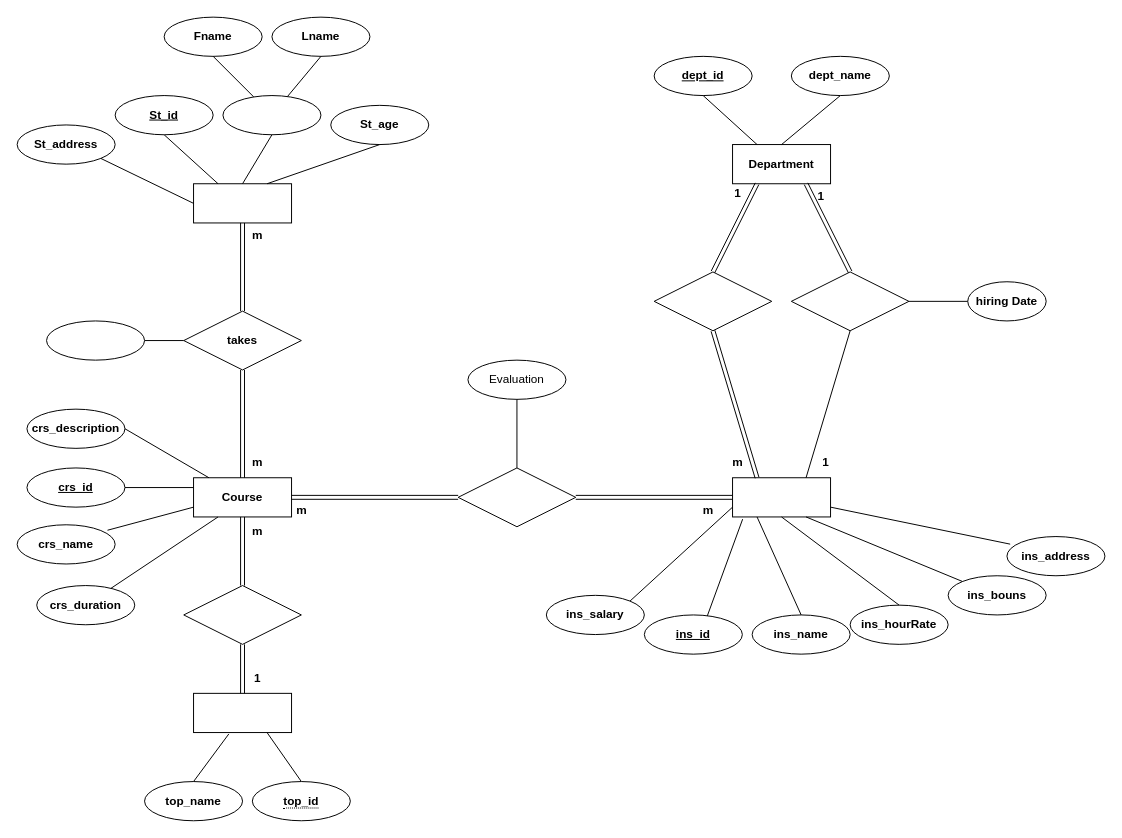
Some shapes in this 1122 by 838 pixel diagram are drawn without their labels. The shapes that lost their labels are listed below. From the top down, each one's centre as x and y in pixels, then its label:
At point (271, 115): "St_name".
At point (242, 203): "Student".
At point (712, 301): "is located in".
At point (849, 301): "manages".
At point (95, 340): "grade".
At point (516, 497): "Teaches".
At point (781, 497): "Instructor".
At point (242, 614): "Is classified under".
At point (242, 712): "Topic".
